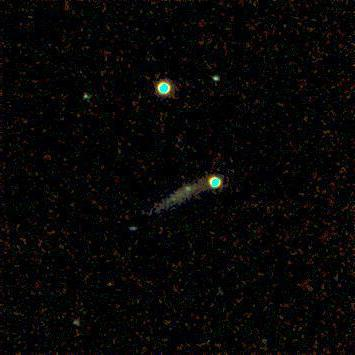star: (158, 182, 188, 212)
